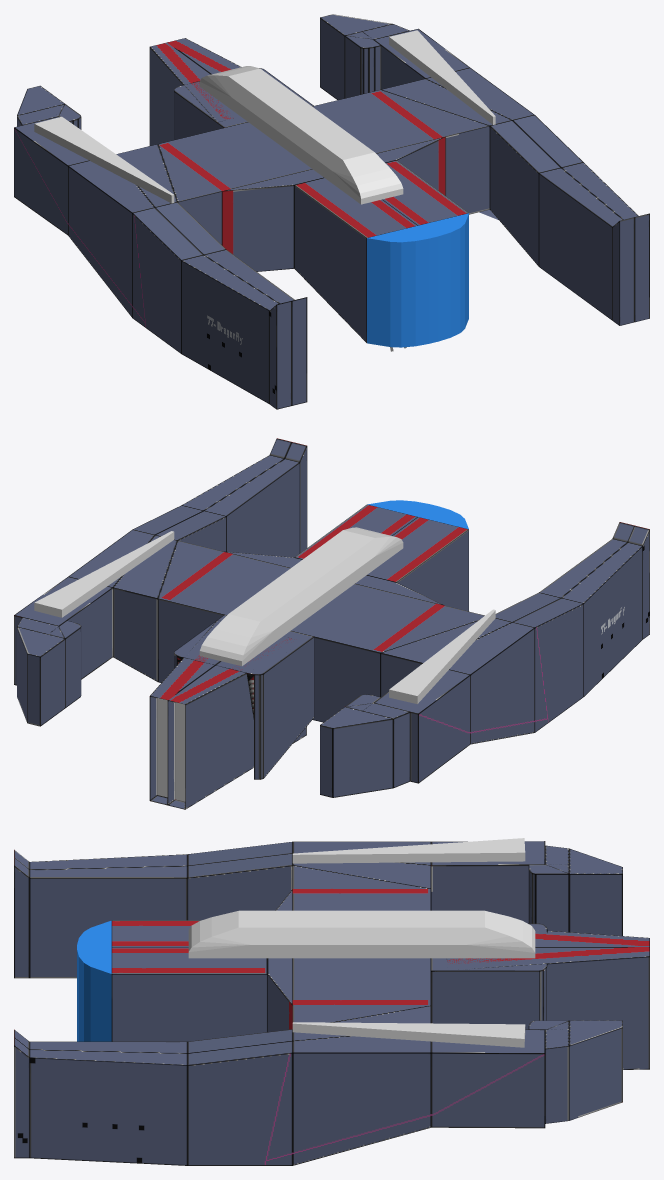
The model's file is Dragonfly.fbx.
The picture shows the model from 3 angles, top to bottom: view 1: azimuth 30°, elevation 25°; view 2: azimuth 150°, elevation 25°; view 3: azimuth 270°, elevation 25°; orthographic projection. The views are drawn at different scales.
Visible parts, largest first — view 1: Hull, TopDecal, Cockpit; view 2: Hull, TopDecal, Engine, Cockpit; view 3: Hull, TopDecal, Cockpit.
Boxes of the visible parts, bbox=[...] form: Hull: bbox=[14, 14, 649, 409]; TopDecal: bbox=[34, 30, 495, 204]; Cockpit: bbox=[367, 213, 468, 347]; Hull: bbox=[14, 438, 649, 809]; TopDecal: bbox=[34, 527, 495, 704]; Engine: bbox=[157, 698, 185, 801]; Cockpit: bbox=[367, 500, 468, 529]; Hull: bbox=[14, 841, 649, 1165]; TopDecal: bbox=[188, 838, 535, 1047]; Cockpit: bbox=[77, 920, 111, 1041].
Size of the model in its own units: 363 by 141 by 460.
Materials: 5 (1 with a texture image).
